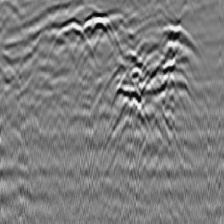cavities: (115, 17, 197, 132), (56, 10, 115, 46)
